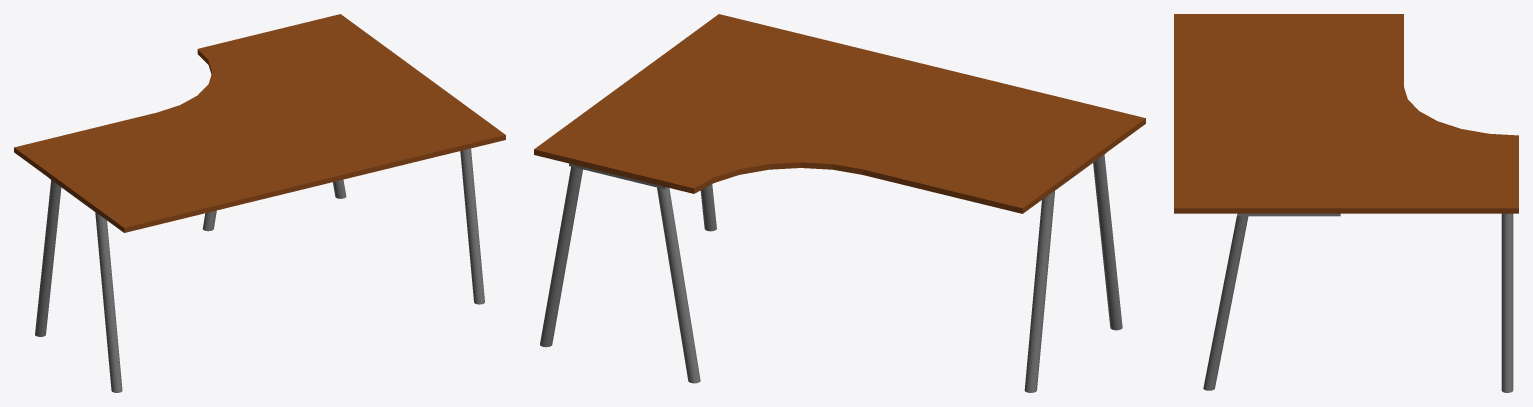
3 renders of one model, left to right at view 1: azimuth 30°, elevation 25°; view 2: azimuth 150°, elevation 25°; view 3: azimuth 270°, elevation 25°, orthographic. The views are drawn at different scales.
Visible parts, largest first — view 1: Mesh1 Galant_160_x_120_L1 Model; view 2: Mesh1 Galant_160_x_120_L1 Model; view 3: Mesh1 Galant_160_x_120_L1 Model.
Part boxes in pixels (box(x1,y1,x2,y2)): Mesh1 Galant_160_x_120_L1 Model: box(14, 14, 505, 392); Mesh1 Galant_160_x_120_L1 Model: box(534, 14, 1145, 392); Mesh1 Galant_160_x_120_L1 Model: box(1174, 14, 1518, 392).
Bounding box in the file's own units: 0.7539 × 0.3345 × 0.5654.
